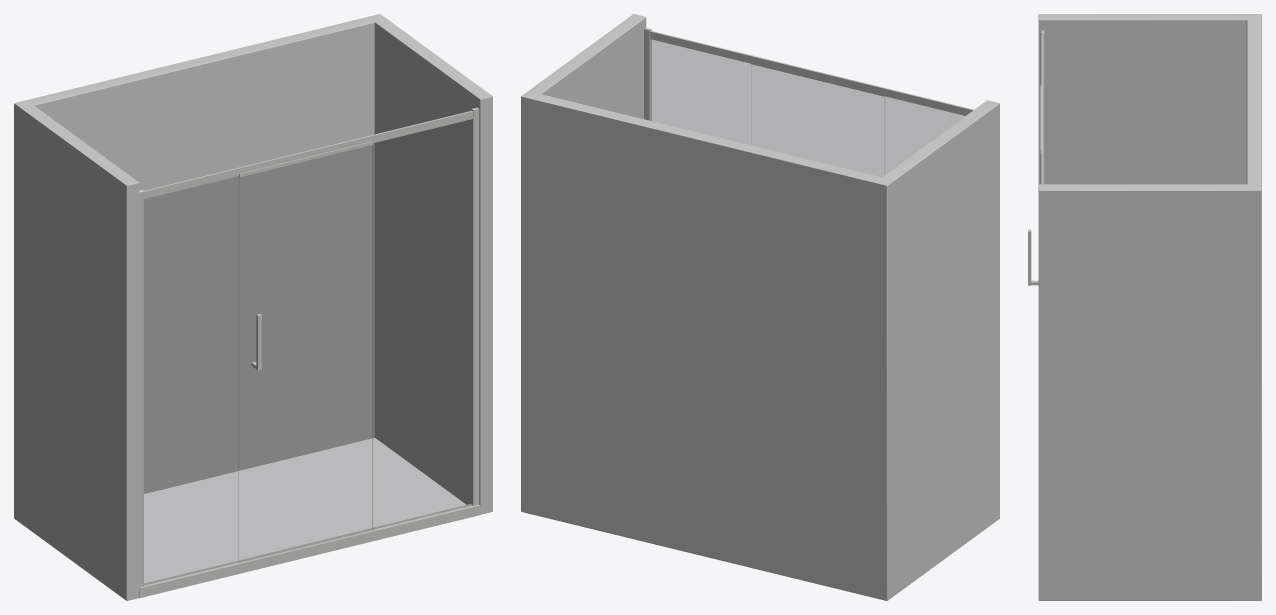
File: Shower_enclosures_012.gltf
3 renders of one model, left to right at view 1: azimuth 30°, elevation 25°; view 2: azimuth 150°, elevation 25°; view 3: azimuth 270°, elevation 25°, orthographic.
Parts seen in each view (by area): view 1: Shower_enclosures_012; view 2: Shower_enclosures_012; view 3: Shower_enclosures_012.
Part boxes in pixels (x1=…): Shower_enclosures_012: x1=14, y1=14, x2=492, y2=600; Shower_enclosures_012: x1=521, y1=14, x2=999, y2=600; Shower_enclosures_012: x1=1028, y1=14, x2=1261, y2=600.
Bounding box in the file's own units: 17.98 × 19.49 × 10.05.
2 materials, 2 textured.
